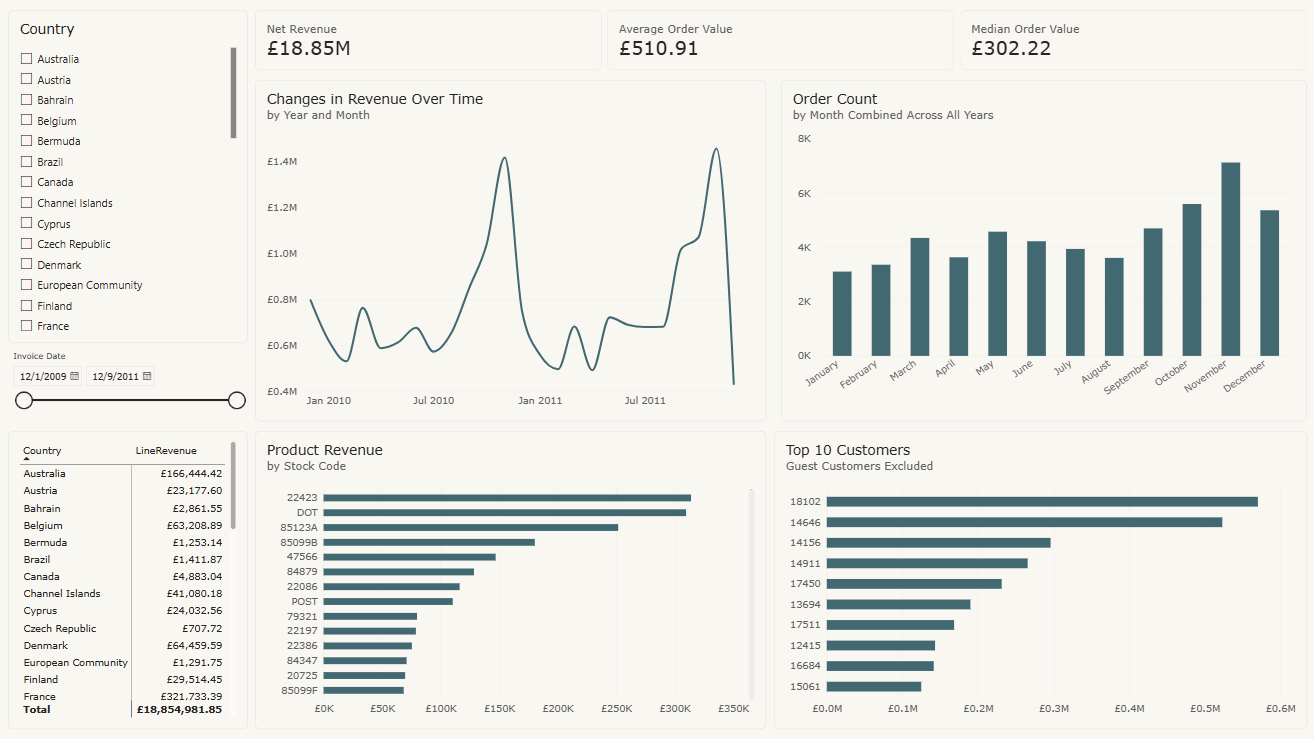

This screenshot's page, from the dashboard's own definition file:
{"tool":"powerbi","page":{"name":"Page 1","canvas":[1920,1080],"ordinal":0},"visuals":[{"type":"slicer","fields":{"Values":["invoices.InvoiceDate"]},"box":[13.1,513.6,350.2,108],"z":0},{"type":"listSlicer","fields":{"Values":["invoices.Country"]},"box":[13.1,16,350.2,485.8],"z":1000},{"type":"lineChart","fields":{"Category":["invoices.InvoiceDate.Variation.Date Hierarchy.Year","invoices.InvoiceDate.Variation.Date Hierarchy.Month"],"Y":["invoices.LineRevenue"]},"box":[373.5,118.2,745.5,497.5],"z":2000},{"type":"cardVisual","fields":{"Data":["invoices.LineRevenue","invoices.AOV","invoices.MOV"]},"box":[373.5,16,1534.8,89],"z":3000},{"type":"clusteredBarChart","title":"Product Revenue","fields":{"Category":["invoices.StockCode"],"Y":["invoices.LineRevenue"]},"box":[373.5,630.3,745.5,434.8],"z":4000},{"type":"clusteredBarChart","title":"Top 10 Customers","fields":{"Category":["invoices.Customer ID"],"Y":["invoices.LineRevenue"]},"box":[1130.7,630.3,777.6,434.8],"z":5000},{"type":"clusteredColumnChart","title":"Order Count","fields":{"Category":["invoices.InvoiceDate.Variation.Date Hierarchy.Month"],"Y":["invoices.Order Count"]},"box":[1140.9,118.2,767.4,497.5],"z":6000},{"type":"pivotTable","fields":{"Rows":["invoices.Country"],"Values":["invoices.LineRevenue"]},"box":[13.1,630.3,350.2,434.8],"z":7000}]}

Visuals, with their boxes in screenshot pixels (x1, y1, x2, y2), scaled from the page's 1920x1080 canvas onto the 1314x739 screenshot:
slicer - invoices.InvoiceDate: 9:351:249:425
listSlicer - invoices.Country: 9:11:249:343
lineChart - invoices.InvoiceDate.Variation.Date Hierarchy.Year x invoices.InvoiceDate.Variation.Date Hierarchy.Month: 256:81:766:421
cardVisual - invoices.LineRevenue x invoices.AOV: 256:11:1306:72
"Product Revenue" clusteredBarChart: 256:431:766:729
"Top 10 Customers" clusteredBarChart: 774:431:1306:729
"Order Count" clusteredColumnChart: 781:81:1306:421
pivotTable - invoices.Country x invoices.LineRevenue: 9:431:249:729
